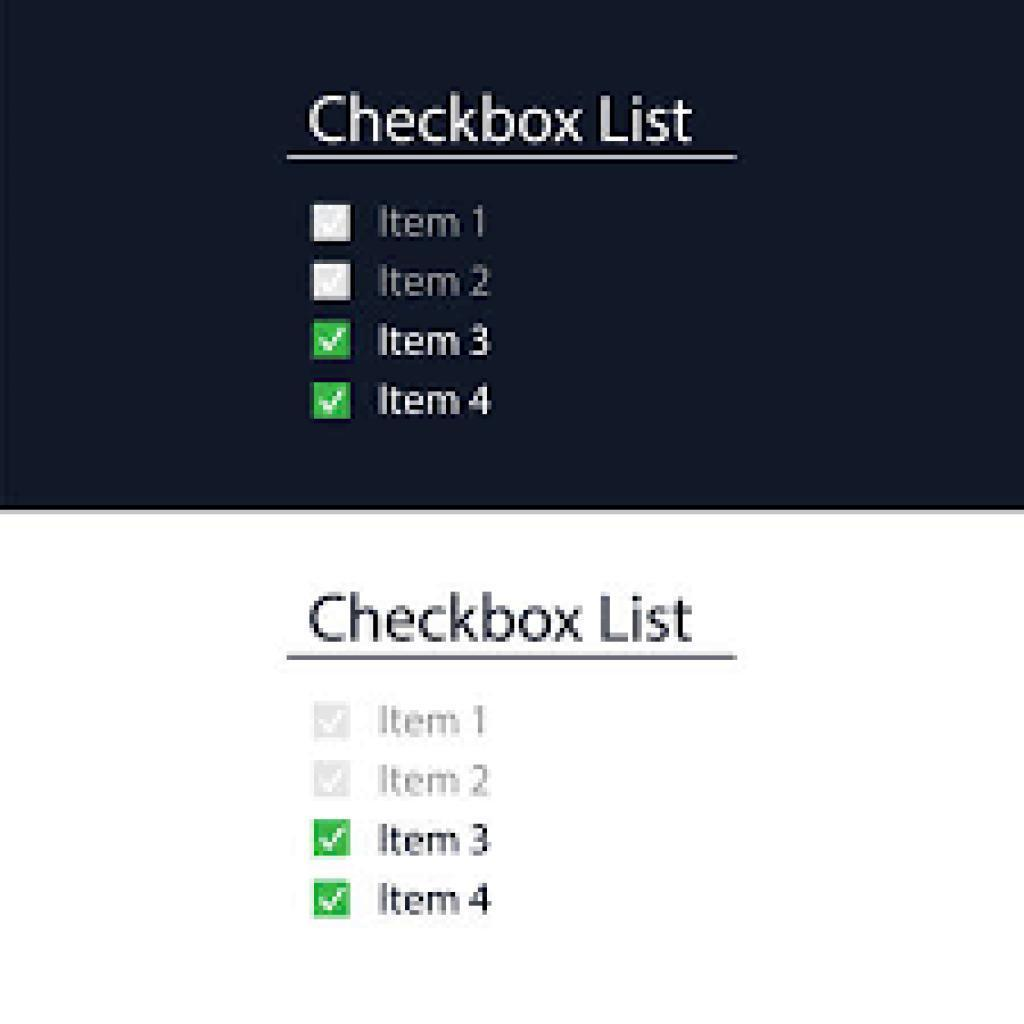checkbox: (314, 817, 352, 858), (314, 880, 352, 920), (314, 382, 351, 420), (314, 205, 350, 242), (316, 705, 353, 740), (315, 265, 350, 300), (318, 763, 354, 795), (314, 326, 349, 357)
label: (372, 320, 496, 365), (377, 820, 500, 865), (375, 200, 497, 245), (372, 758, 496, 802), (377, 697, 492, 742), (375, 881, 501, 922), (375, 380, 498, 418), (377, 264, 494, 302)
